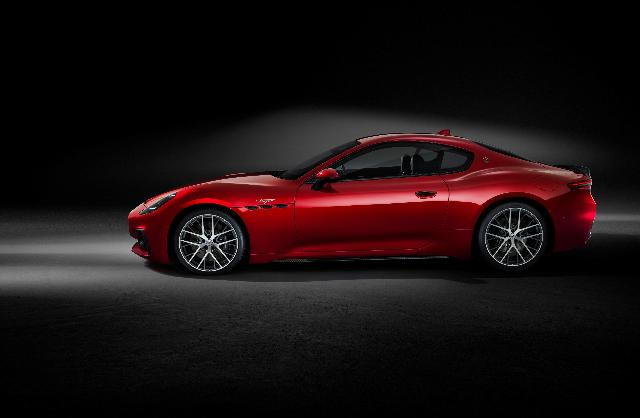maserati: (128, 128, 596, 278)
